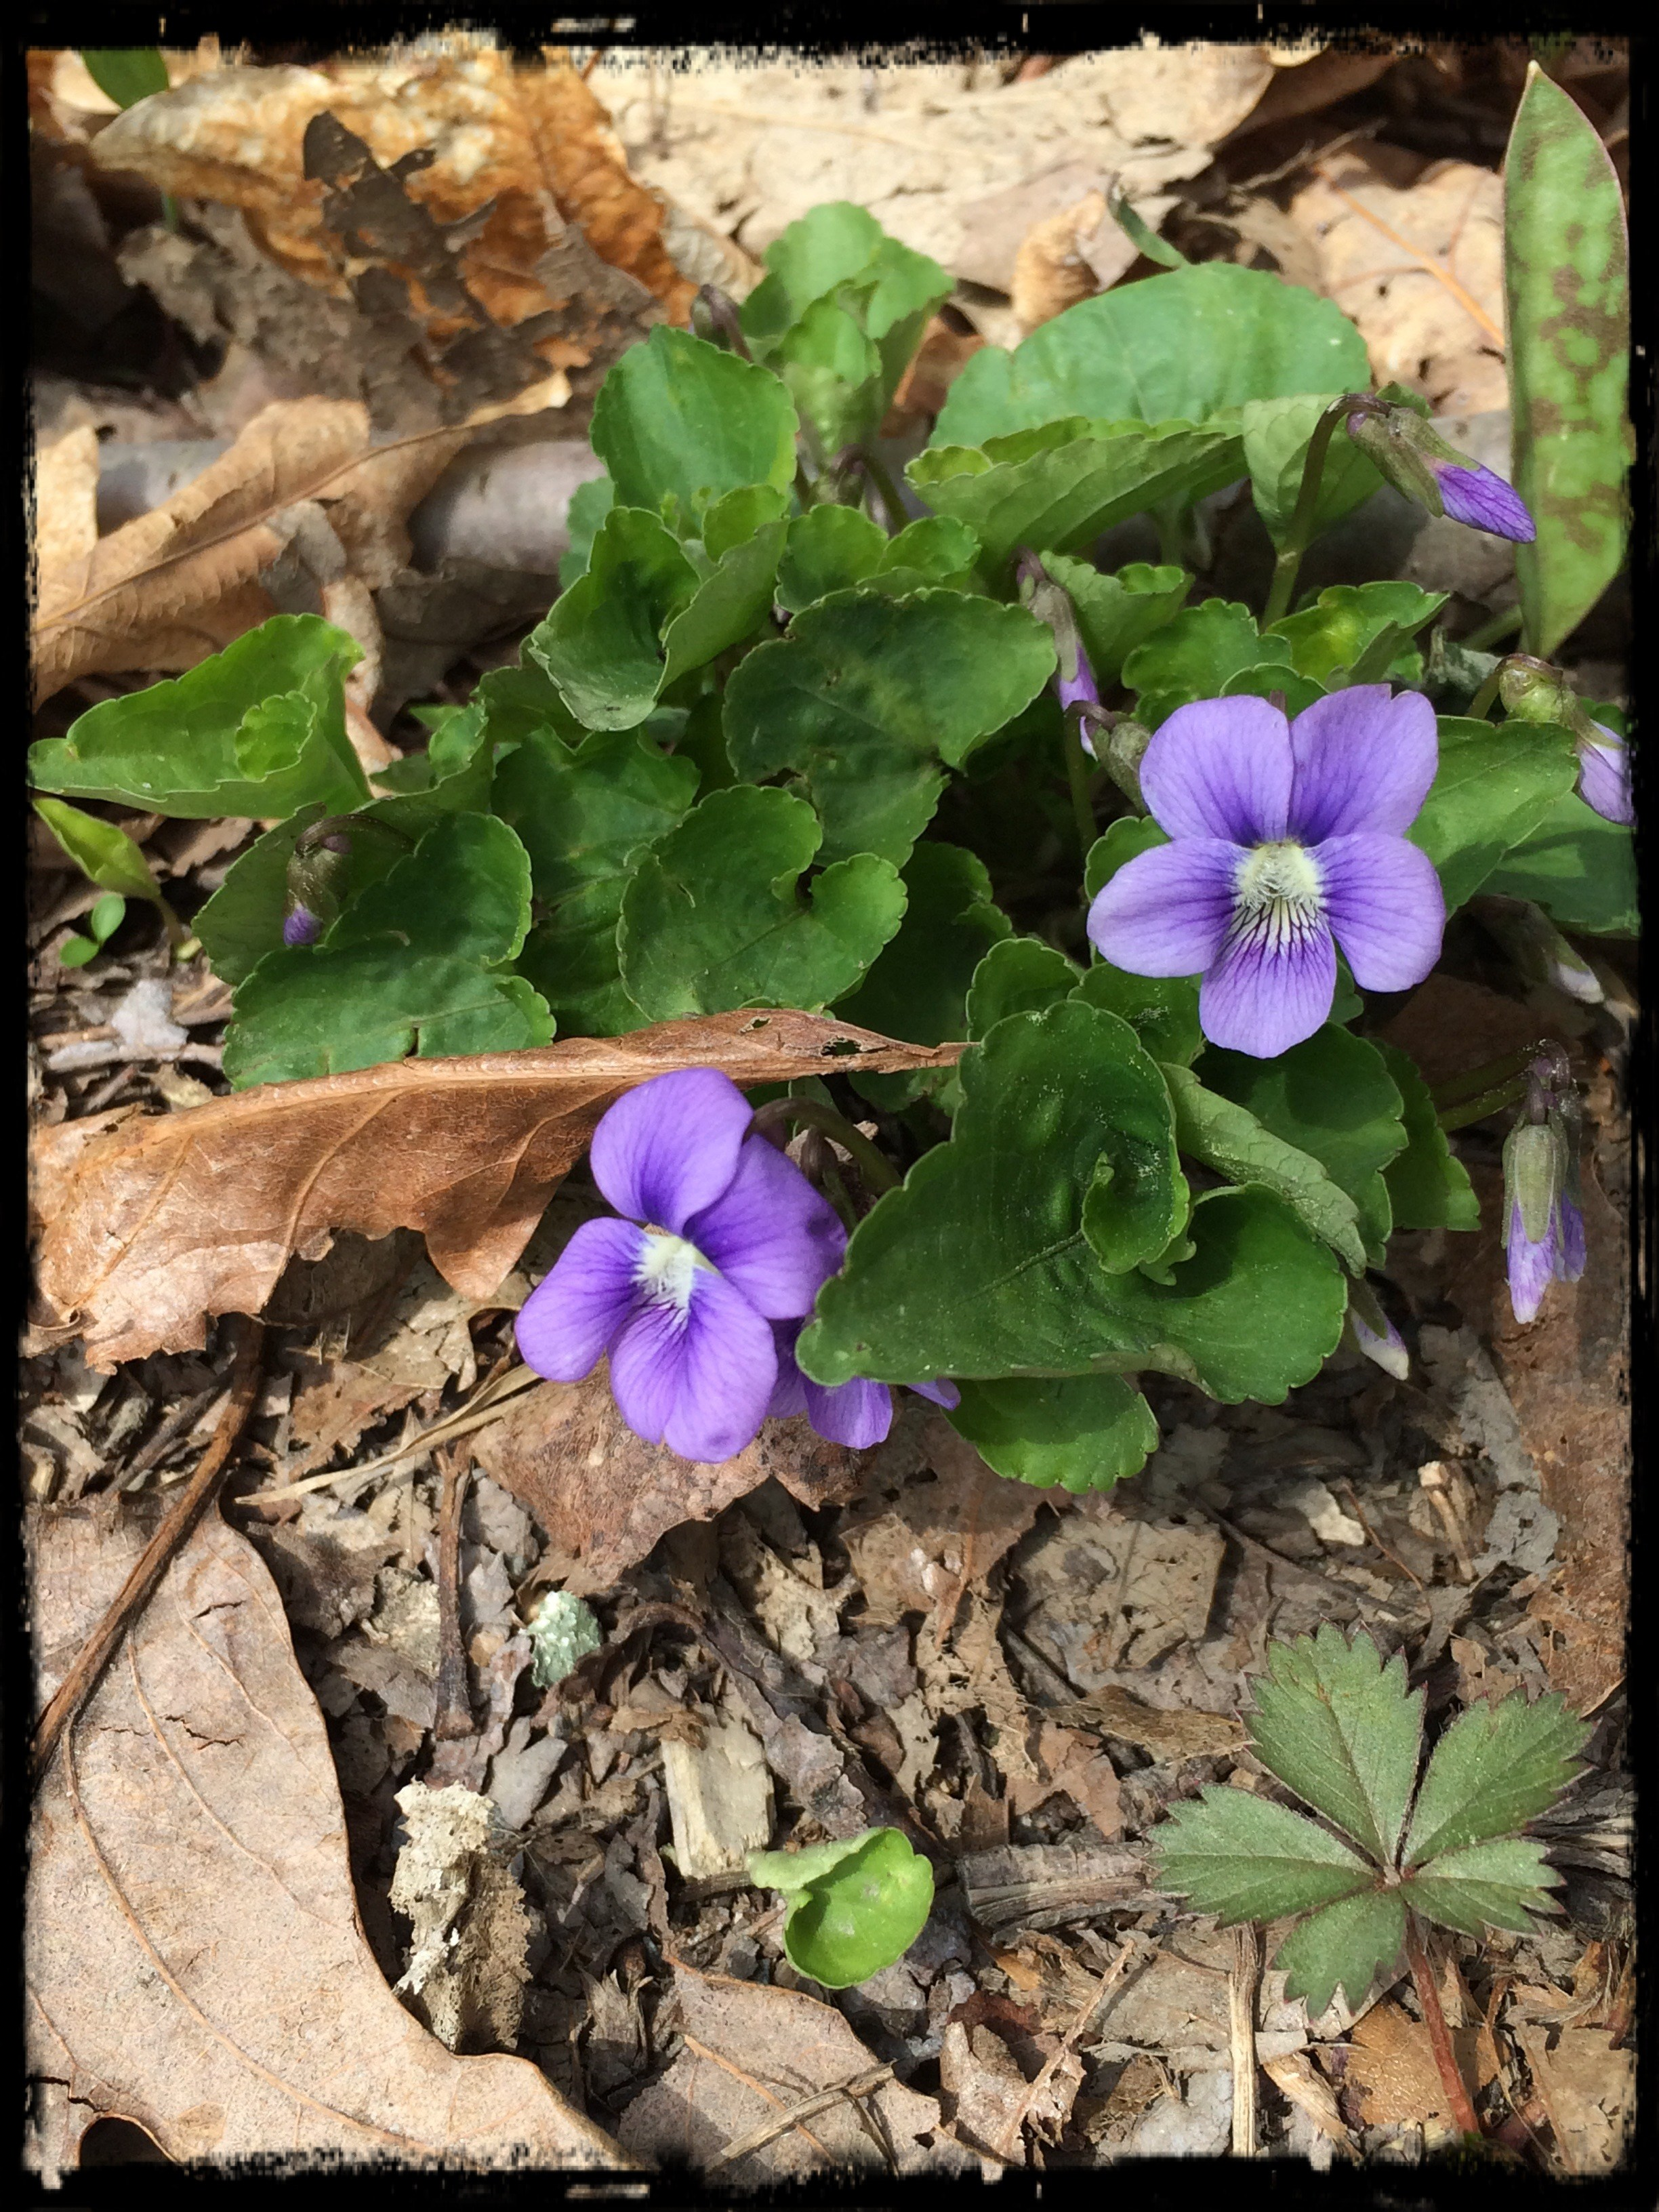violet: (500, 1054, 870, 1433), (1093, 665, 1460, 1042)
